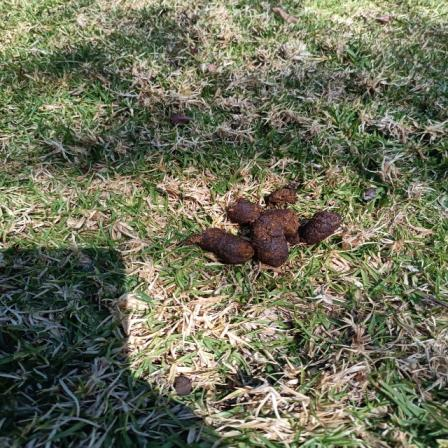dog-poop: (186, 177, 344, 273)
